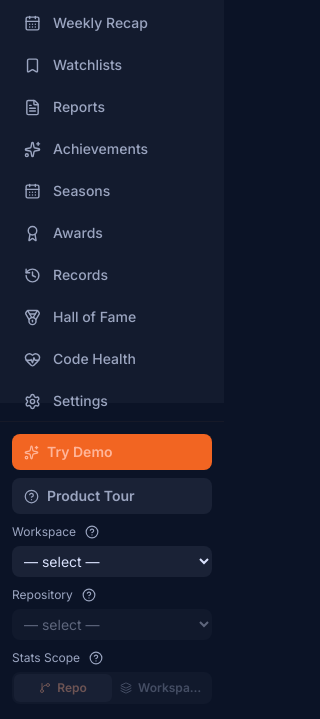
Test: ProductTour › toggles demo mode from the sidebar
(page scrolled)
Click the button "Try Demo" at (112, 452), box [12,434,212,470]
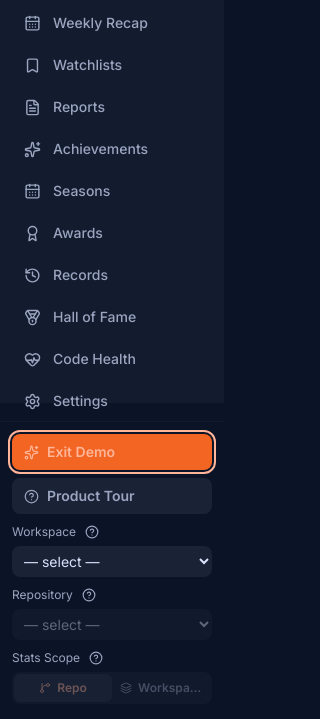
Check: the button "Exit Demo" is shown
Click the button "Exit Demo" at (112, 452), box [12,434,212,470]
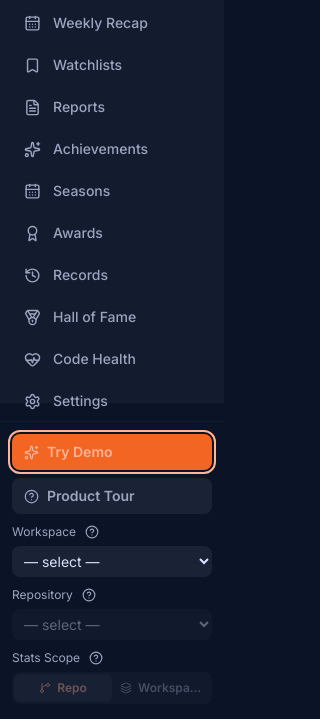
Check: the button "Try Demo" is shown, box [12,434,212,470]
